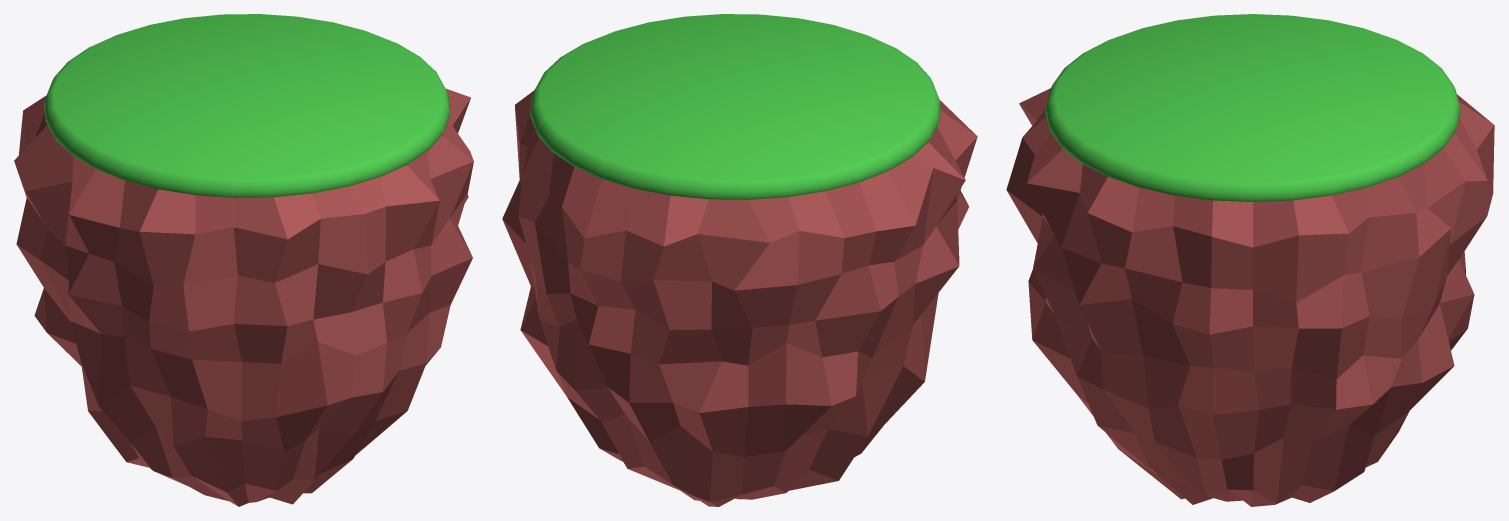
File: island8.fbx
3 renders of one model, left to right at view 1: azimuth 30°, elevation 25°; view 2: azimuth 150°, elevation 25°; view 3: azimuth 270°, elevation 25°, orthographic. The views are drawn at different scales.
Visible parts, largest first — view 1: island(8); view 2: island(8); view 3: island(8).
Boxes of the visible parts, x1,y1,x2,y2 form: island(8): (14,14,473,506); island(8): (502,14,977,506); island(8): (1006,14,1494,506).
Size of the model in its own units: 35.51 by 31.92 by 36.15.
1 material, 1 textured.
